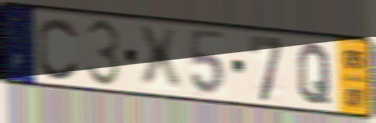3: (84, 17, 122, 90)
5: (188, 27, 228, 100)
7: (247, 33, 285, 104)
C: (36, 15, 81, 83)
Q: (296, 41, 333, 107)
X: (134, 24, 185, 92)
